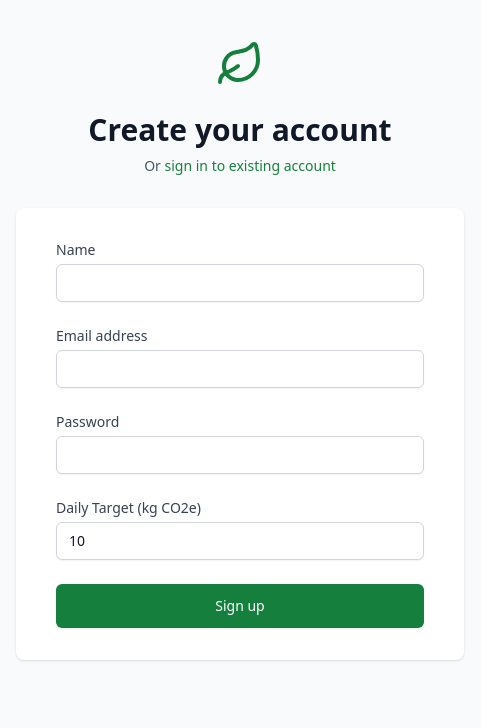
Scenario: Authentication pages › announces registration failures
Type "Test User" into the field labelled "Name" at (240, 283), box [56, 264, 424, 302]
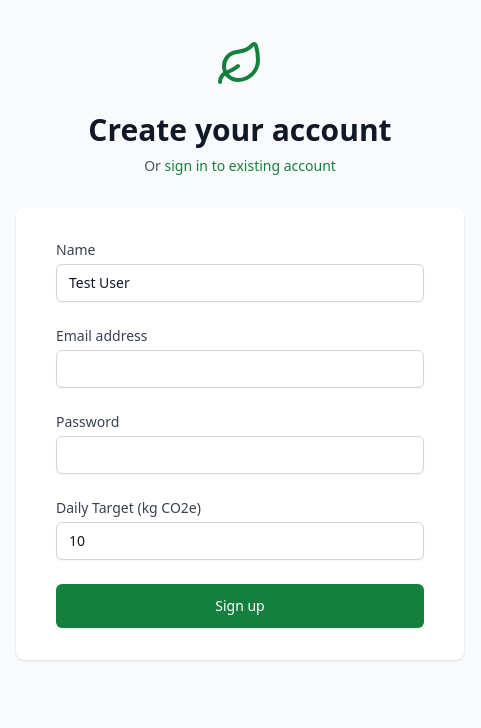
Type "new@example.com" into the field labelled "Email address" at (240, 369), box [56, 350, 424, 388]
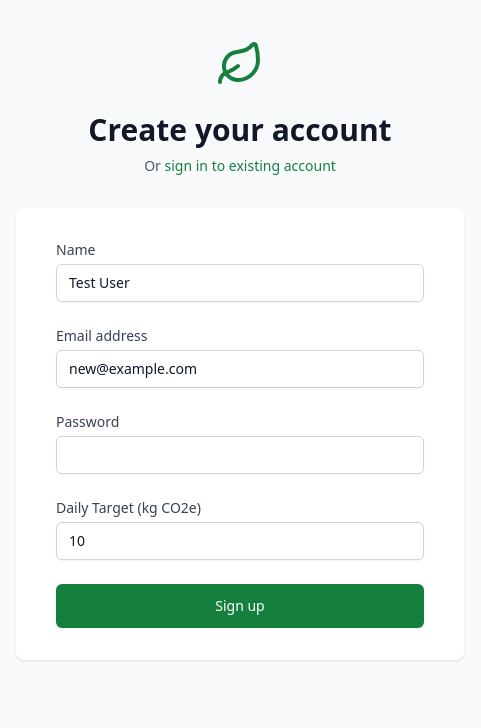
Type "Password123!" into the password field labelled "Password" at (240, 455), box [56, 436, 424, 474]
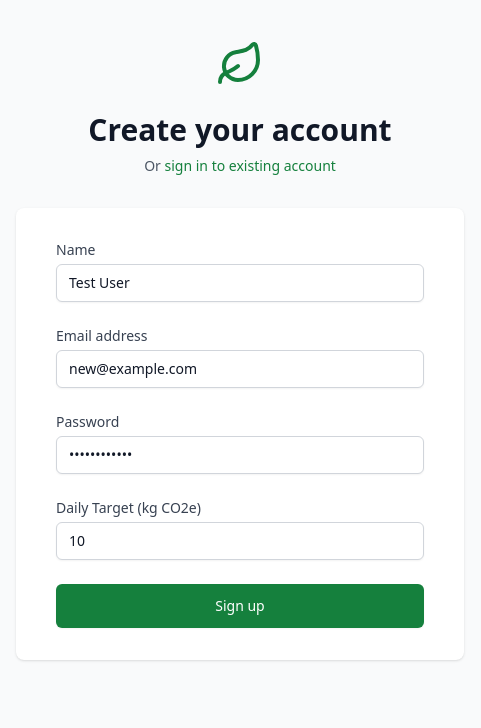
Click the button "Sign up" at (240, 606), box [56, 584, 424, 628]
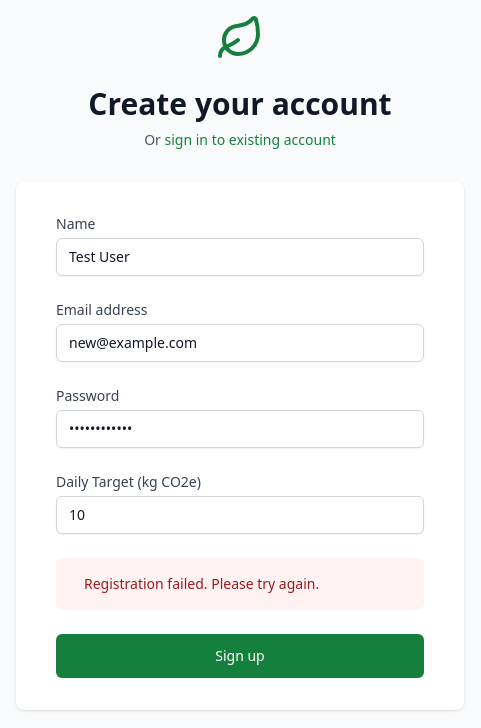
Check: the message shows "Registration failed", box [84, 574, 319, 593]
